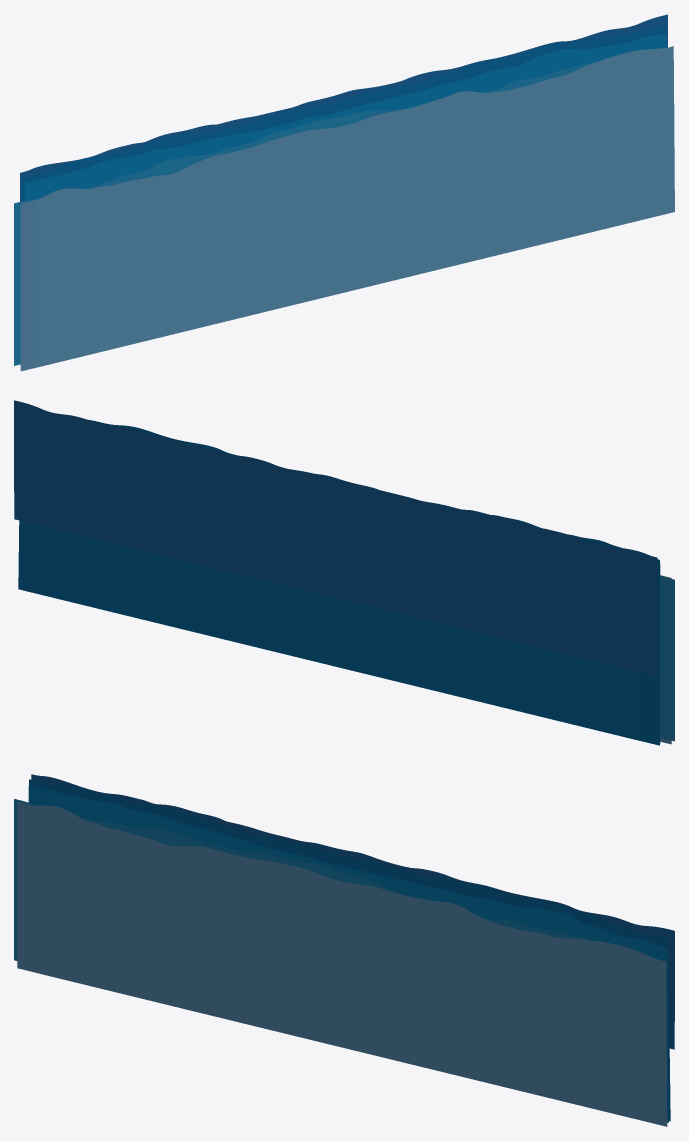
Rendered from water.fbx.
The picture shows the model from 3 angles, top to bottom: view 1: azimuth 30°, elevation 25°; view 2: azimuth 150°, elevation 25°; view 3: azimuth 330°, elevation 25°; orthographic projection.
Visible parts, largest first — view 1: pasted__pPlane12, pasted__pPlane10, pasted__pPlane9, pasted__pPlane11, pasted__pPlane7; view 2: pasted__pPlane7, pasted__pPlane9, pasted__pPlane11; view 3: pasted__pPlane12, pasted__pPlane10, pasted__pPlane9, pasted__pPlane7, pasted__pPlane11.
Boxes of the visible parts, left/top/right/bottom form: pasted__pPlane12: left=20, top=46, right=674, bottom=371; pasted__pPlane10: left=24, top=33, right=666, bottom=200; pasted__pPlane9: left=22, top=23, right=665, bottom=201; pasted__pPlane11: left=14, top=61, right=596, bottom=365; pasted__pPlane7: left=20, top=14, right=667, bottom=201; pasted__pPlane7: left=14, top=400, right=657, bottom=675; pasted__pPlane9: left=18, top=420, right=659, bottom=745; pasted__pPlane11: left=660, top=576, right=674, bottom=741; pasted__pPlane12: left=17, top=801, right=667, bottom=1126; pasted__pPlane10: left=28, top=785, right=668, bottom=1122; pasted__pPlane9: left=29, top=779, right=670, bottom=1121; pasted__pPlane7: left=31, top=774, right=674, bottom=1049; pasted__pPlane11: left=14, top=799, right=590, bottom=960.
Bounding box in the file's own units: 14.34 × 4.04 × 0.2766.
